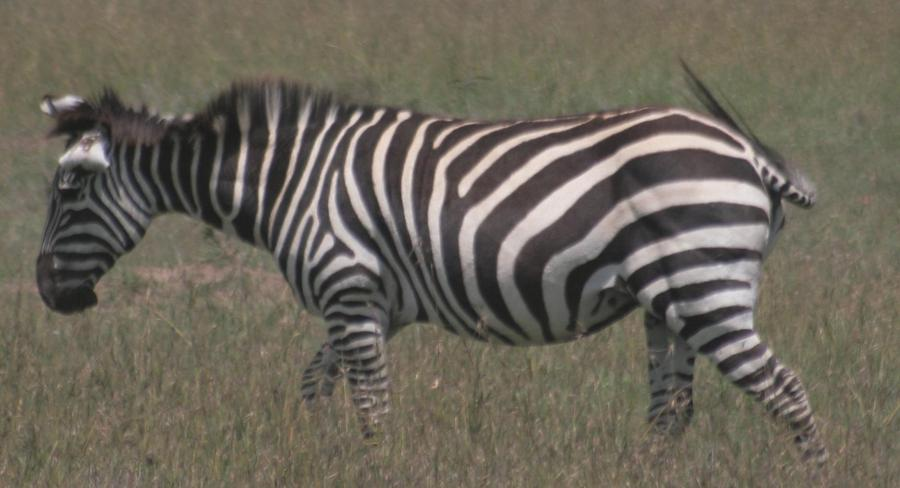zebra_plains: (255, 86, 798, 363)
